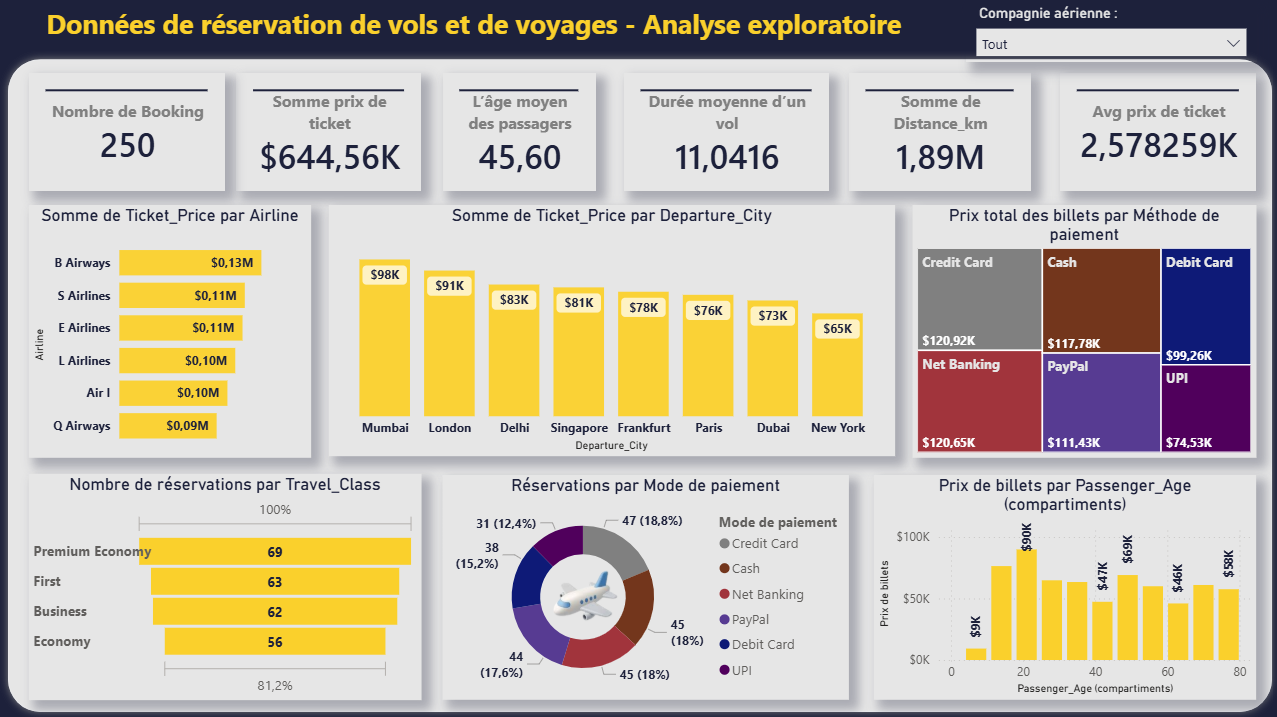

What the dashboard file says about the page in this screenshot:
{"tool":"powerbi","page":{"name":"Dashboard 1","canvas":[1280,720],"ordinal":0},"visuals":[{"type":"textbox","box":[35,0,877.5,72.5],"z":0},{"type":"shape","box":[0,51.2,1280,668.8],"z":1000},{"type":"cardVisual","fields":{"Data":["CountNonNull(flight_bookings_sample.Booking_ID)"]},"box":[28.8,72.5,196.2,118.8],"z":2000},{"type":"cardVisual","fields":{"Data":["Sum(flight_bookings_sample.Ticket_Price)"]},"box":[236.2,72.5,185,118.8],"z":3000},{"type":"cardVisual","fields":{"Data":["Avg(flight_bookings_sample.Passenger_Age)"]},"box":[442.5,72.5,153.8,118.8],"z":4000},{"type":"cardVisual","fields":{"Data":["Sum(flight_bookings_sample.Distance_km)"]},"box":[848.8,72.5,182.5,118.8],"z":5000},{"type":"cardVisual","fields":{"Data":["Avg(flight_bookings_sample.Flight_Duration_hr)"]},"box":[623.8,72.5,205,118.8],"z":6000},{"type":"cardVisual","fields":{"Data":["flight_bookings_sample.Avg Ticket Price"]},"box":[1060,72.5,196.2,118.8],"z":6001},{"type":"barChart","fields":{"Category":["flight_bookings_sample.Airline"],"Y":["Sum(flight_bookings_sample.Ticket_Price)"]},"box":[28.8,205,282.5,252.5],"z":6002},{"type":"lineStackedColumnComboChart","fields":{"Y":["Sum(flight_bookings_sample.Ticket_Price)"],"Category":["flight_bookings_sample.Departure_City"]},"box":[328.8,205,566.2,251.2],"z":6003},{"type":"funnel","fields":{"Category":["flight_bookings_sample.Travel_Class"],"Y":["CountNonNull(flight_bookings_sample.Booking_ID)"]},"box":[28.8,473.8,392.5,226.2],"z":6004},{"type":"treemap","fields":{"Group":["flight_bookings_sample.Payment_Method"],"Values":["Sum(flight_bookings_sample.Ticket_Price)"]},"box":[912.5,205,343.8,252.5],"z":6005},{"type":"donutChart","fields":{"Category":["flight_bookings_sample.Payment_Method"],"Y":["CountNonNull(flight_bookings_sample.Booking_ID)"]},"box":[442.5,475,406.2,225],"z":6006},{"type":"columnChart","fields":{"Y":["Sum(flight_bookings_sample.Ticket_Price)"],"Category":["flight_bookings_sample.Passenger_Age (compartiments)"]},"box":[873.8,475,382.5,225],"z":6007},{"type":"slicer","fields":{"Values":["flight_bookings_sample.Airline"]},"box":[966.2,0,290,62.5],"z":6008},{"type":"image","box":[520,546.2,126.2,105],"z":6009}]}

Visuals, with their boxes in screenshot pixels (x1, y1, x2, y2), scaled from the page's 1280x720 canvas onto the 1277x717 screenshot:
textbox: left=35, top=0, right=910, bottom=72
shape: left=0, top=51, right=1276, bottom=716
cardVisual - CountNonNull(flight_bookings_sample.Booking_ID): left=29, top=72, right=224, bottom=191
cardVisual - Sum(flight_bookings_sample.Ticket_Price): left=236, top=72, right=420, bottom=191
cardVisual - Avg(flight_bookings_sample.Passenger_Age): left=441, top=72, right=595, bottom=191
cardVisual - Sum(flight_bookings_sample.Distance_km): left=847, top=72, right=1029, bottom=191
cardVisual - Avg(flight_bookings_sample.Flight_Duration_hr): left=622, top=72, right=827, bottom=191
cardVisual - flight_bookings_sample.Avg Ticket Price: left=1058, top=72, right=1253, bottom=191
barChart - flight_bookings_sample.Airline x Sum(flight_bookings_sample.Ticket_Price): left=29, top=204, right=311, bottom=456
lineStackedColumnComboChart - Sum(flight_bookings_sample.Ticket_Price) x flight_bookings_sample.Departure_City: left=328, top=204, right=893, bottom=454
funnel - flight_bookings_sample.Travel_Class x CountNonNull(flight_bookings_sample.Booking_ID): left=29, top=472, right=420, bottom=697
treemap - flight_bookings_sample.Payment_Method x Sum(flight_bookings_sample.Ticket_Price): left=910, top=204, right=1253, bottom=456
donutChart - flight_bookings_sample.Payment_Method x CountNonNull(flight_bookings_sample.Booking_ID): left=441, top=473, right=847, bottom=697
columnChart - Sum(flight_bookings_sample.Ticket_Price) x flight_bookings_sample.Passenger_Age (compartiments): left=872, top=473, right=1253, bottom=697
slicer - flight_bookings_sample.Airline: left=964, top=0, right=1253, bottom=62
image: left=519, top=544, right=645, bottom=648
